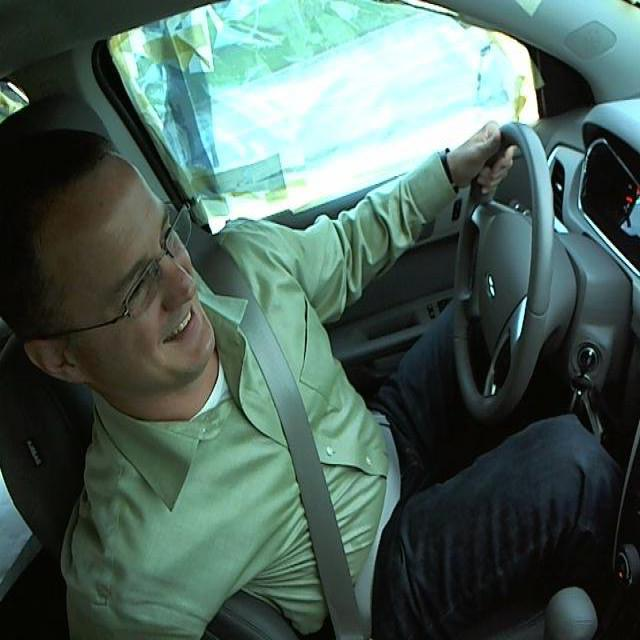seatbelt: (206, 280, 409, 611)
